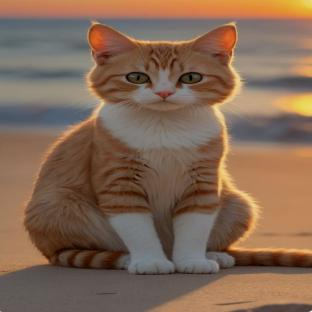Animal: (23, 22, 312, 274)
